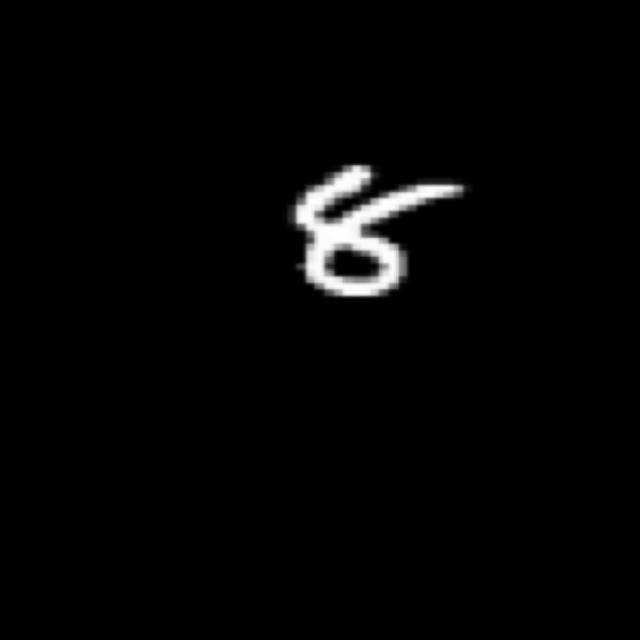eight -8-: (288, 156, 472, 308)
